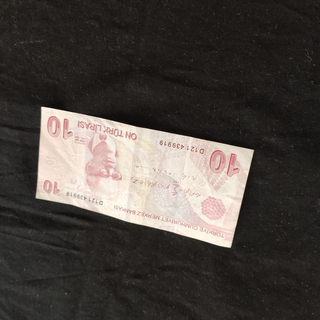10TLBack: (33, 104, 256, 249)
